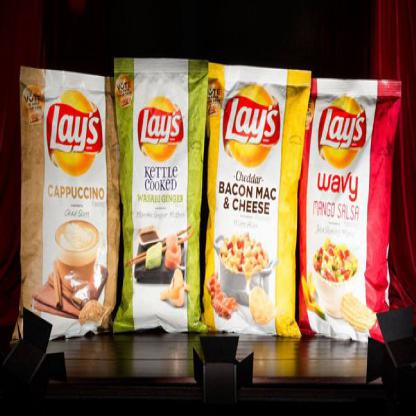potatochip: (188, 53, 314, 350), (7, 60, 131, 351), (290, 70, 406, 352), (107, 50, 214, 338)
